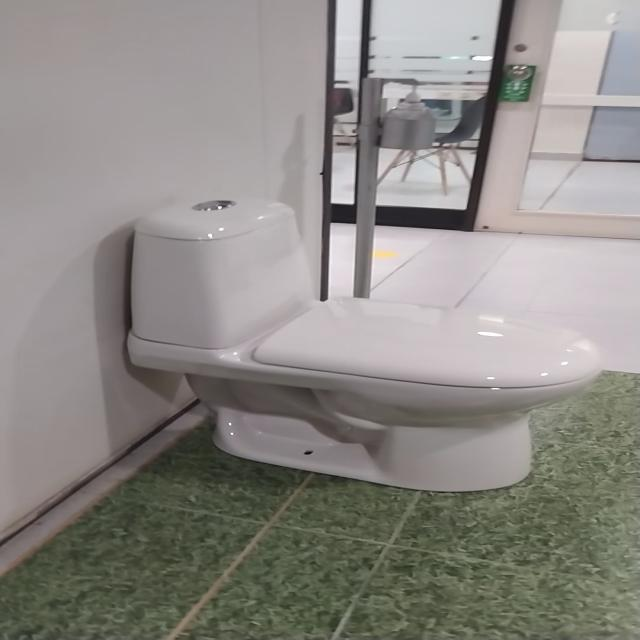toilet: (126, 197, 603, 493)
